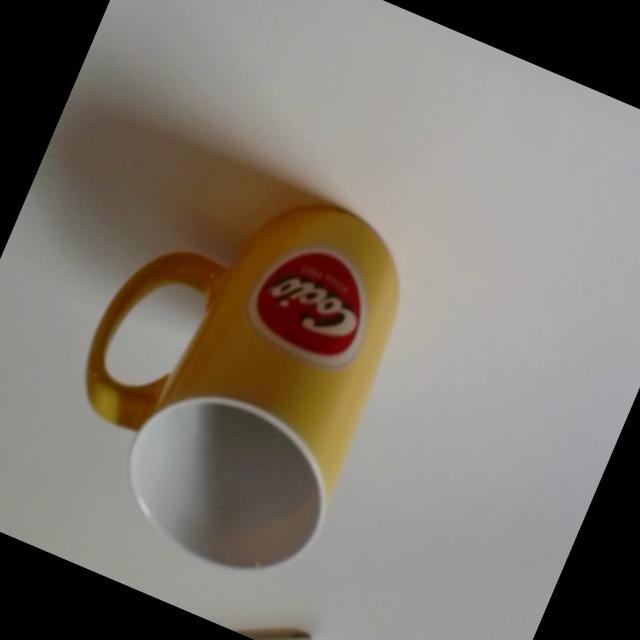Cocio Cup: (29, 142, 444, 598)
